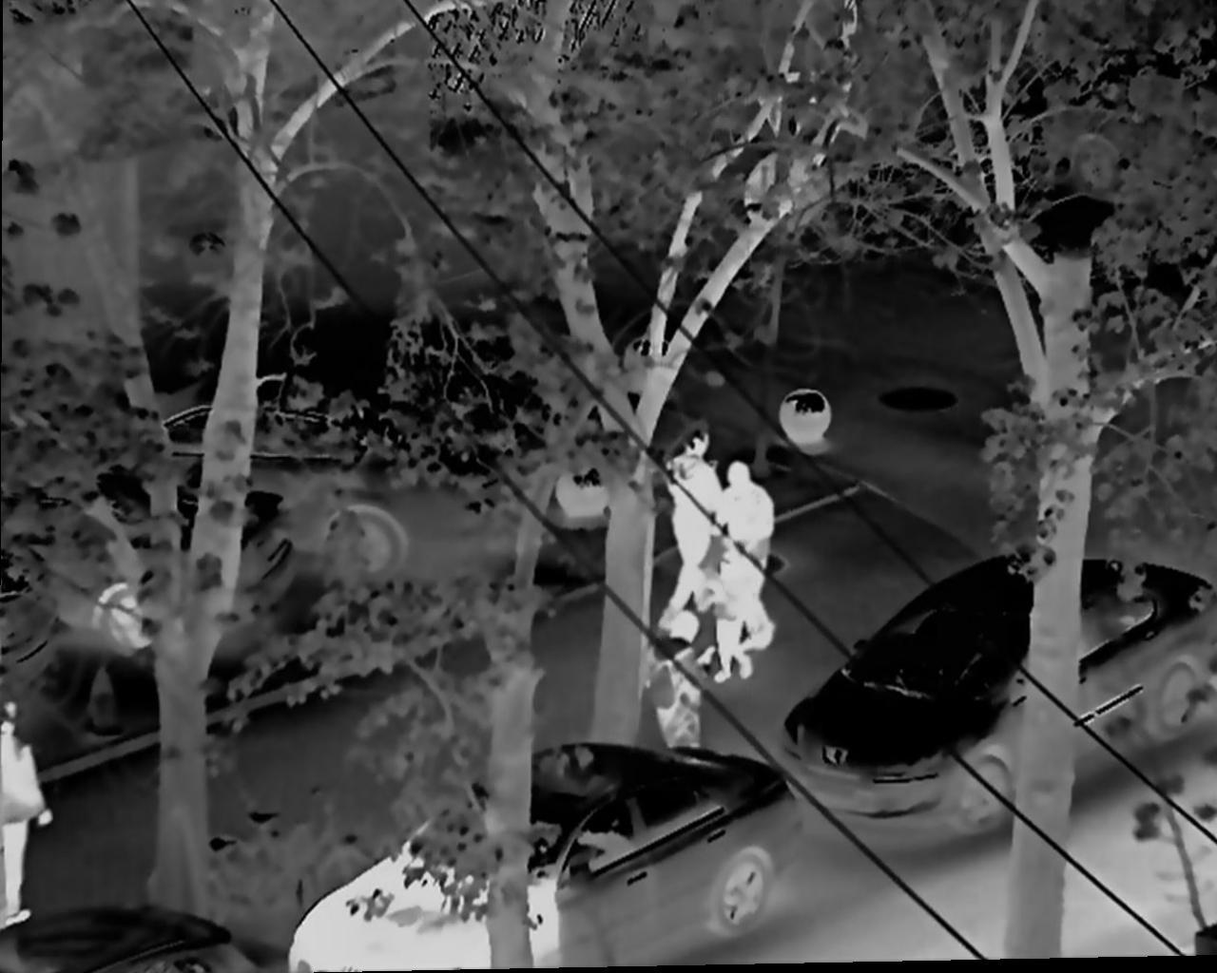person: (661, 426, 728, 618), (715, 461, 780, 656), (2, 700, 53, 938), (650, 610, 722, 776)
